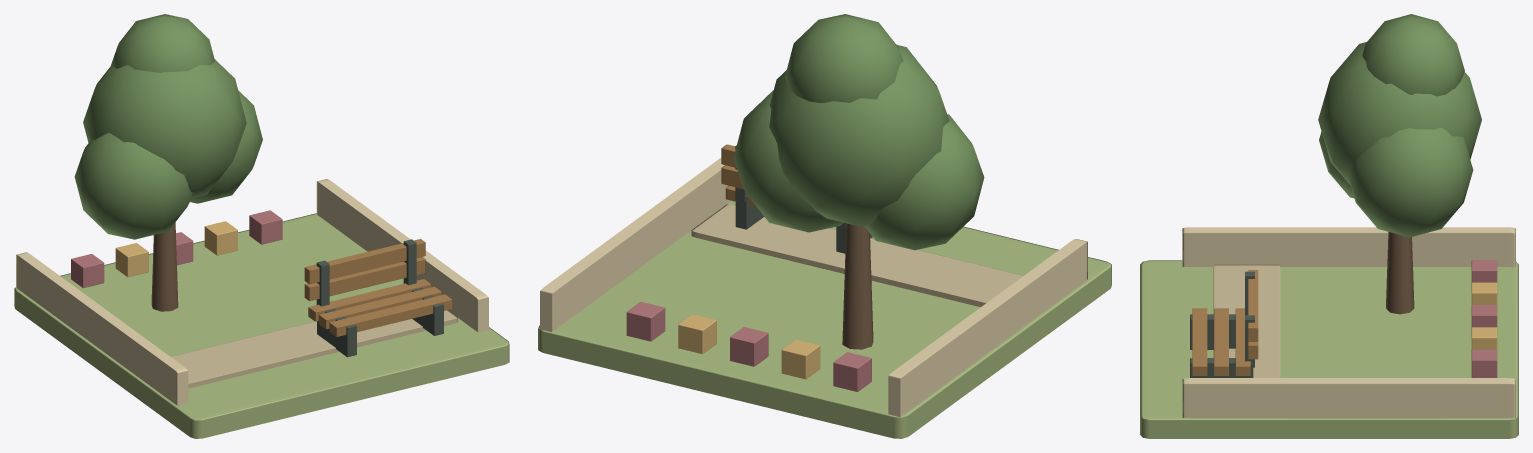
Rendered from park-0.glb.
The picture shows the model from 3 angles, left to right: view 1: azimuth 30°, elevation 25°; view 2: azimuth 150°, elevation 25°; view 3: azimuth 270°, elevation 25°; orthographic projection. The views are drawn at different scales.
Parts seen in each view (by area): view 1: park-0-0; view 2: park-0-0; view 3: park-0-0.
Part boxes in pixels (<box>): park-0-0: <box>14,14,509,438</box>; park-0-0: <box>538,14,1111,438</box>; park-0-0: <box>1140,14,1518,438</box>.
Bounding box in the file's own units: 1.93 × 1.75 × 1.93.
